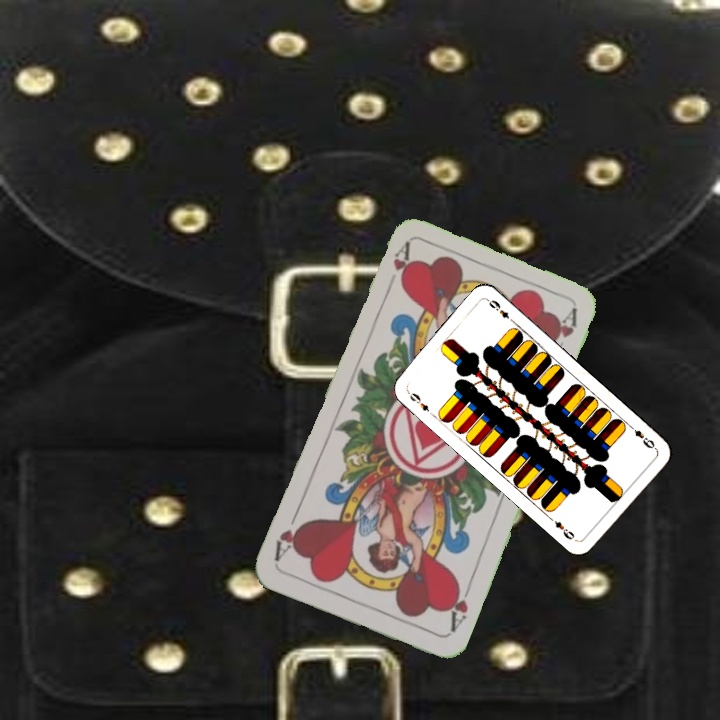E9: (625, 421, 657, 451), (403, 387, 432, 414)
HA: (443, 578, 475, 635), (382, 240, 413, 297)
